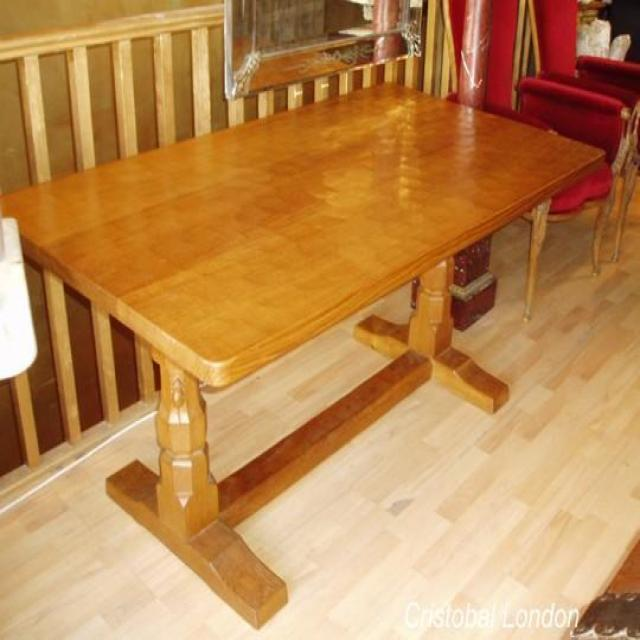table: (0, 78, 609, 629)
